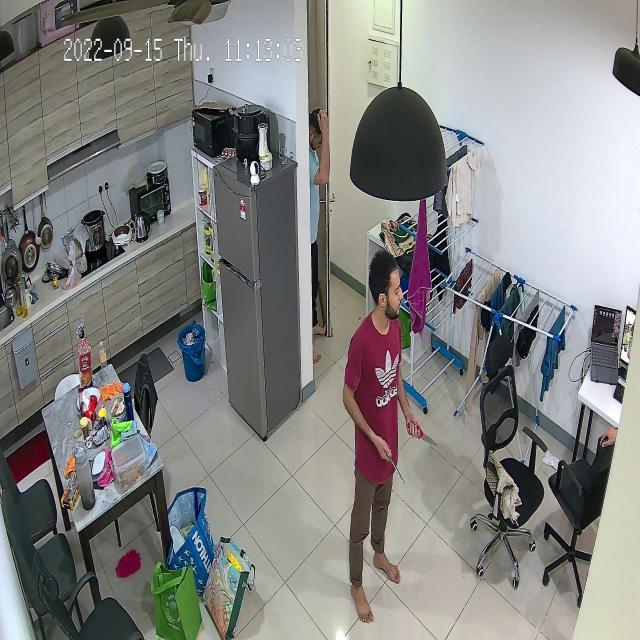Knife: (406, 420, 446, 452), (381, 446, 411, 486)
